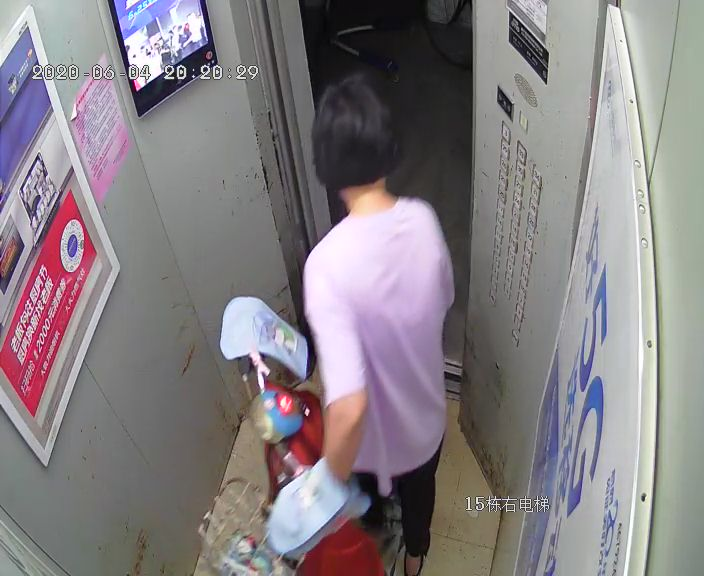Electric-bicycle: (195, 295, 409, 576)
